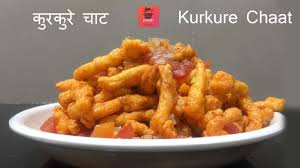kurkure: (38, 33, 269, 137), (180, 7, 241, 28)
